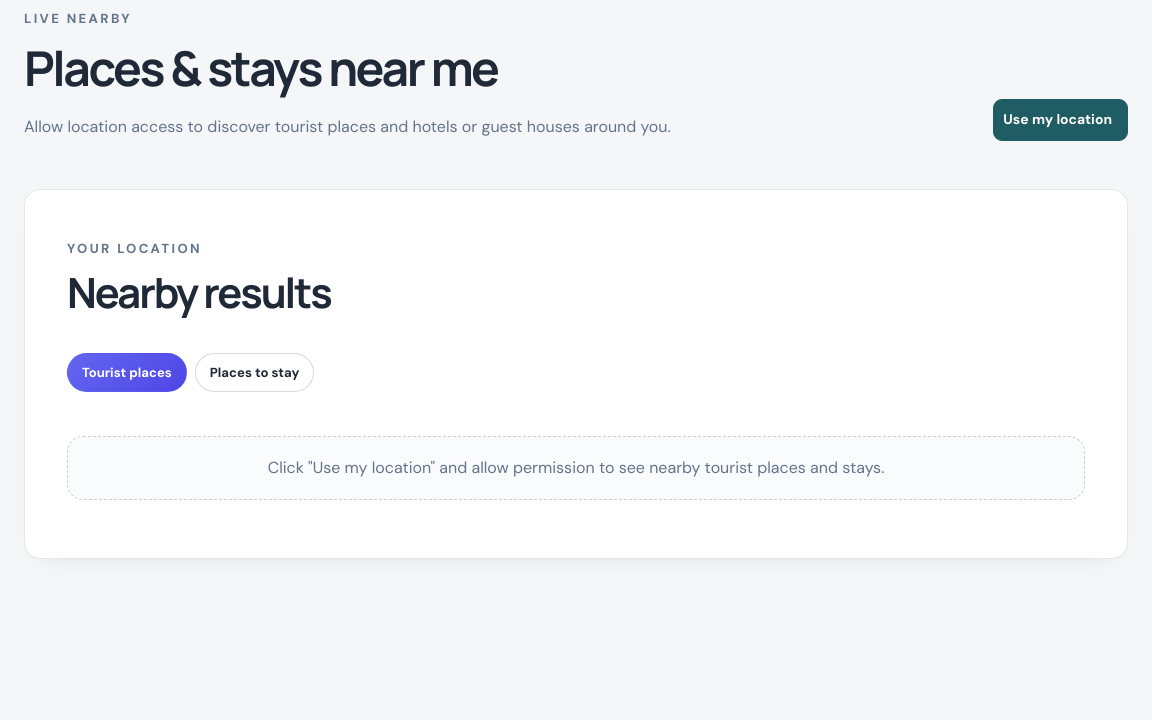
Scenario: NearMePage › explains a denied location permission
The width and height of the screenshot is (1152, 720).
Step 1. Click the button "Use my location" → (1061, 120), box [993,99,1128,141]
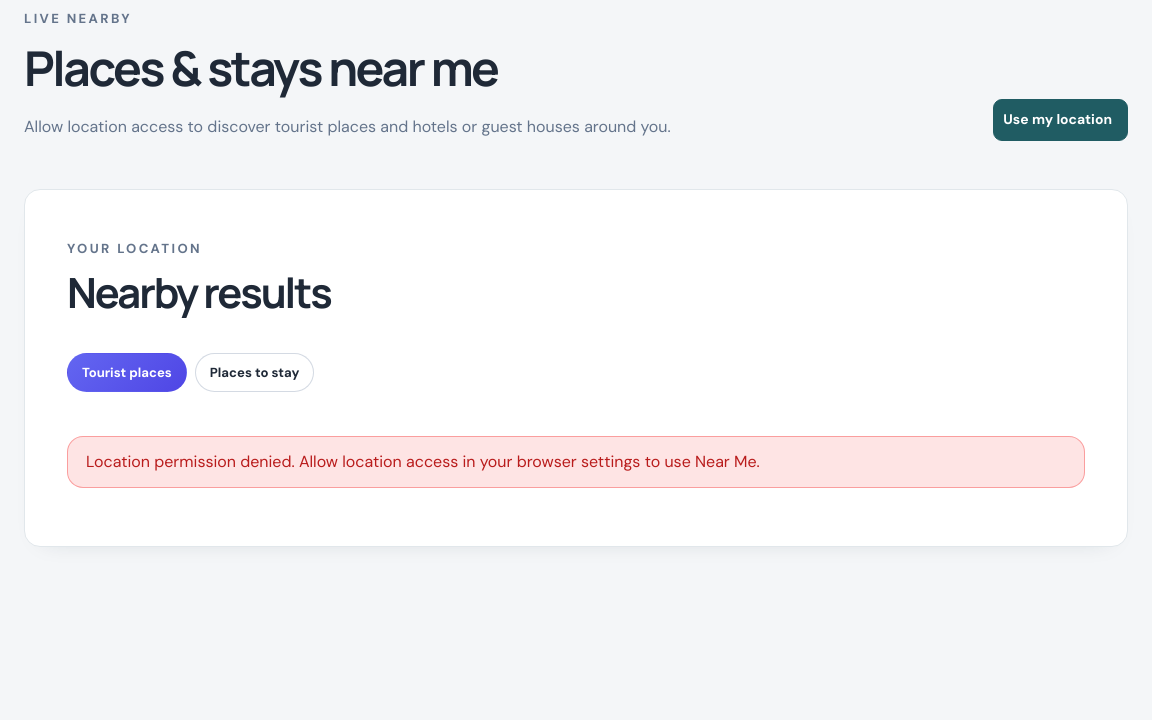
Result: the message shows "permission denied" at [86,451,760,472]
